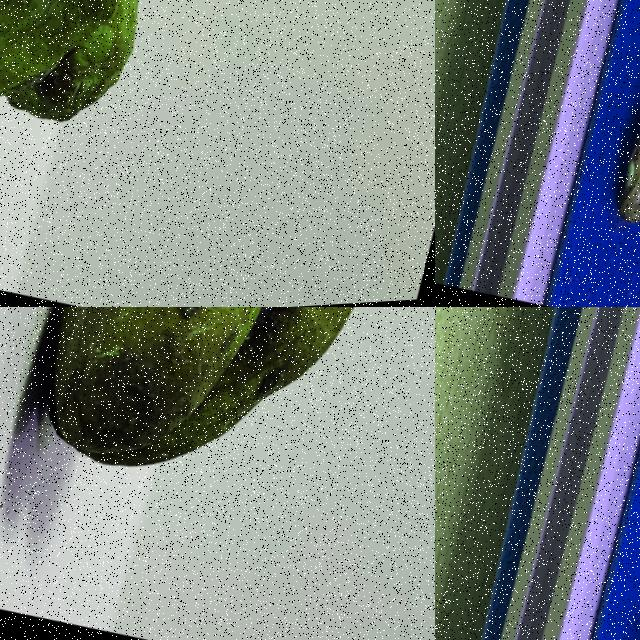Agglomerated_cocoabeans: (0, 307, 434, 619), (0, 0, 233, 234)
Flat_cocoabeans: (567, 0, 639, 289)
